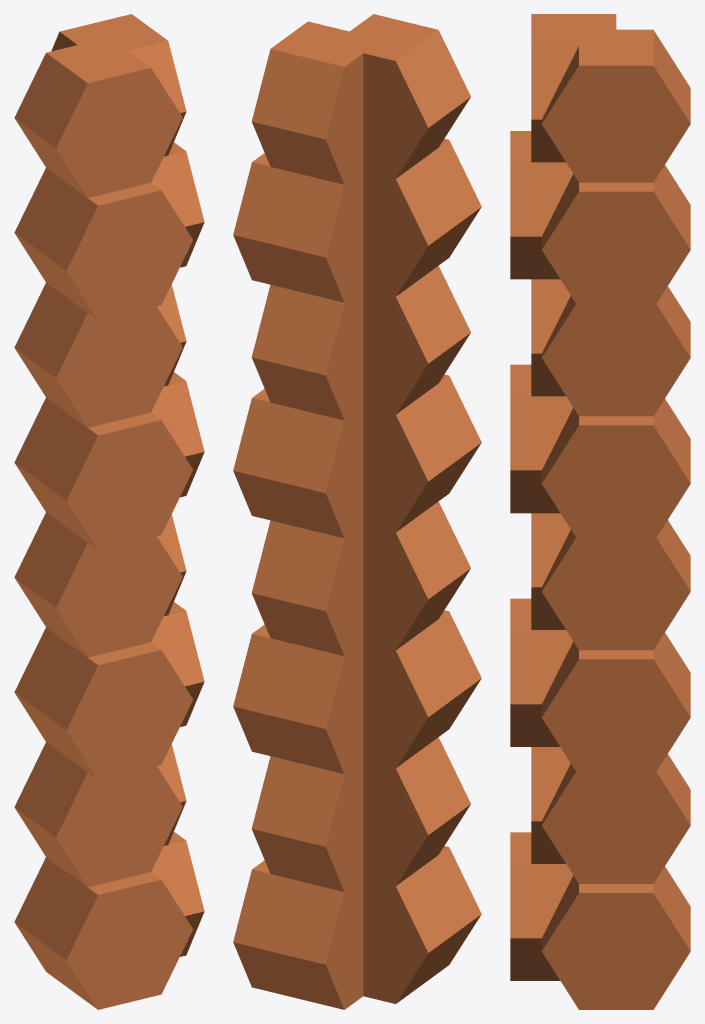
File: cabinCorner.fbx
3 renders of one model, left to right at view 1: azimuth 30°, elevation 25°; view 2: azimuth 150°, elevation 25°; view 3: azimuth 270°, elevation 25°, orthographic. The views are drawn at different scales.
Parts seen in each view (by area): view 1: cabinCorner; view 2: cabinCorner; view 3: cabinCorner.
Boxes of the visible parts, left/top/right/bottom form: cabinCorner: left=14, top=14, right=204, bottom=1009; cabinCorner: left=233, top=14, right=481, bottom=1009; cabinCorner: left=510, top=14, right=690, bottom=1009.
Bounding box in the file's own units: 1.7 × 9.73 × 1.7.
